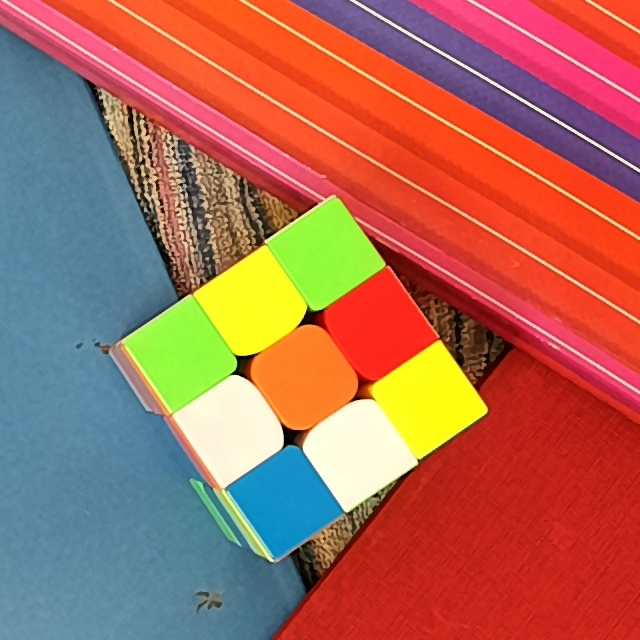tile: (274, 347, 334, 409), (201, 398, 260, 460), (348, 297, 410, 356), (397, 371, 459, 430), (257, 471, 316, 532), (327, 421, 389, 478), (224, 274, 283, 333), (294, 226, 356, 282), (155, 322, 211, 383)
